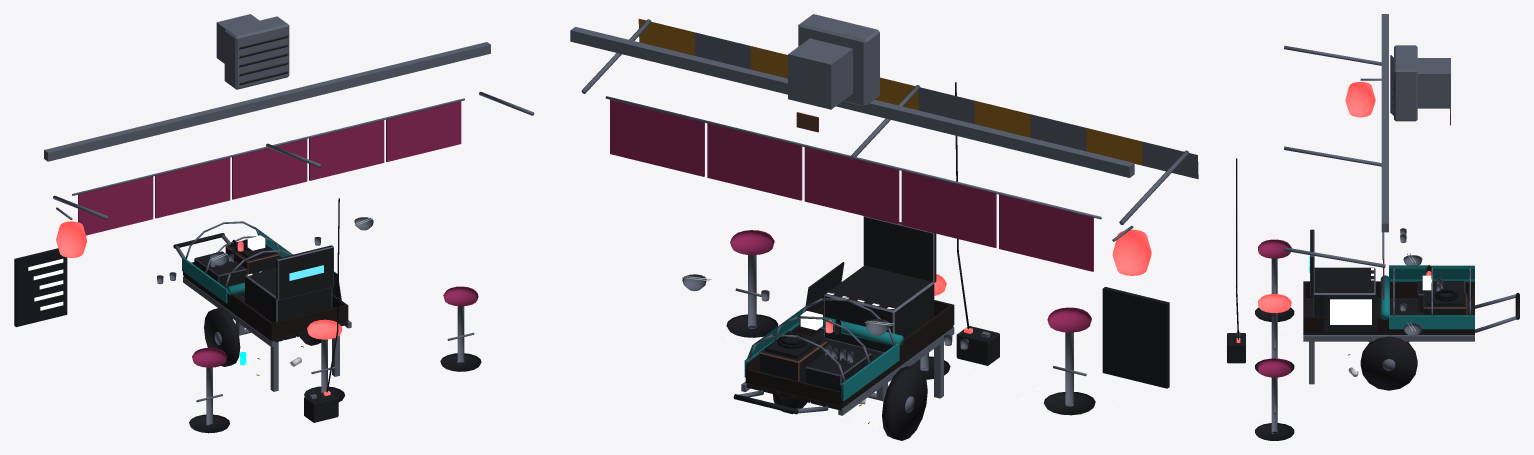
Rendered from room-detail-t1-props.glb.
The picture shows the model from 3 angles, left to right: view 1: azimuth 30°, elevation 25°; view 2: azimuth 150°, elevation 25°; view 3: azimuth 270°, elevation 25°; orthographic projection. The views are drawn at different scales.
Parts seen in each view (by area): view 1: rd-t1-hatch, rd-t1-cart, rd-t1-stools, rd-t1-extract; view 2: rd-t1-hatch, rd-t1-cart, rd-t1-extract, rd-t1-stools; view 3: rd-t1-cart, rd-t1-stools, rd-t1-hatch, rd-t1-extract.
Part boxes in pixels (x1,y1,x2,y2): rd-t1-hatch: [14, 42, 534, 327]; rd-t1-cart: [173, 198, 351, 422]; rd-t1-stools: [157, 217, 481, 440]; rd-t1-extract: [216, 14, 289, 89]; rd-t1-hatch: [570, 19, 1198, 388]; rd-t1-cart: [733, 82, 999, 440]; rd-t1-extract: [788, 14, 879, 132]; rd-t1-stools: [682, 230, 1120, 415]; rd-t1-cart: [1227, 158, 1519, 390]; rd-t1-stools: [1244, 228, 1431, 440]; rd-t1-hatch: [1284, 14, 1388, 299]; rd-t1-extract: [1390, 45, 1450, 125].
Size of the model in its own units: 5.55 by 3.6 by 3.07.
Materials: 1 (1 with a texture image).
